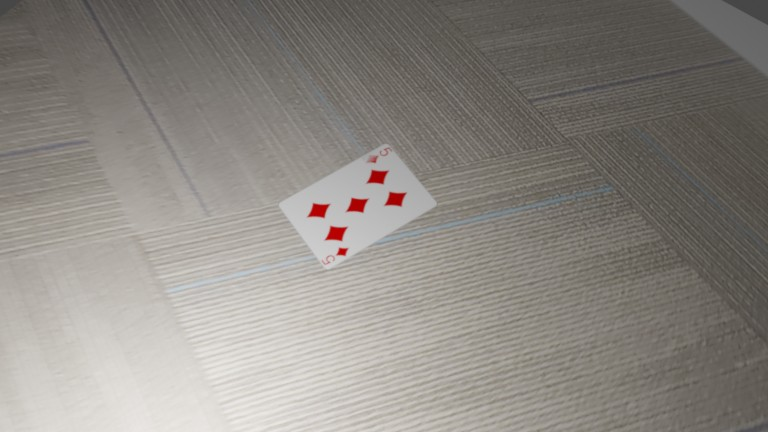5_of_diamonds: (128, 96, 142, 108), (144, 58, 158, 68)
